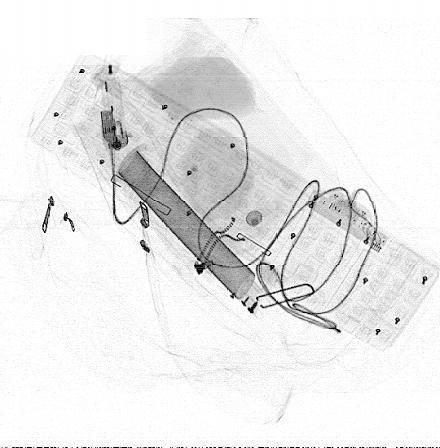Lighter: (99, 74, 129, 152)
